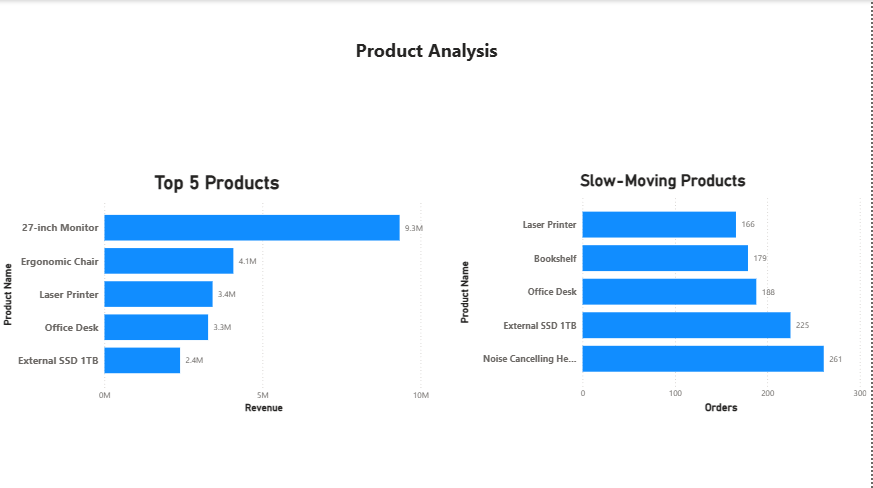

The dashboard page shown, as its layout file describes it:
{"tool":"powerbi","page":{"name":"Product Analysis","canvas":[1280,720],"ordinal":4},"visuals":[{"type":"clusteredBarChart","title":"Top 5 Products ","fields":{"Category":["Retail_Sales_Analysis_Dataset.Product Name"],"Y":["Sum(Retail_Sales_Analysis_Dataset.Sales)"]},"box":[0,251.3,640.7,360],"z":0},{"type":"clusteredBarChart","title":"Slow-Moving Products ","fields":{"Category":["Retail_Sales_Analysis_Dataset.Product Name"],"Y":["Retail_Sales_Analysis_Dataset.TOTAL_orders"]},"box":[671.5,251.3,608.3,360],"z":1000},{"type":"textbox","box":[0,50,1263.7,119],"z":2000}]}

Visuals, with their boxes in screenshot pixels (x1, y1, x2, y2), scaled from the page's 1280x720 canvas onto the 873x488 screenshot:
"Top 5 Products " clusteredBarChart: x1=0, y1=170, x2=437, y2=414
"Slow-Moving Products " clusteredBarChart: x1=458, y1=170, x2=872, y2=414
textbox: x1=0, y1=34, x2=862, y2=115
